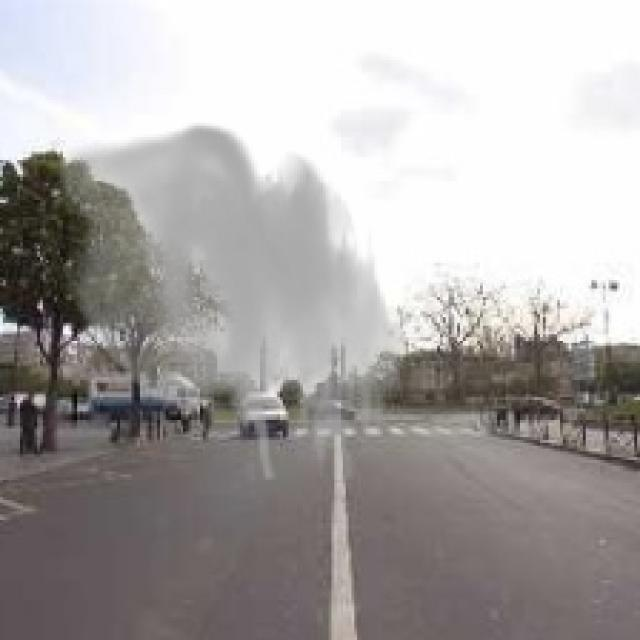Smoke: (57, 123, 412, 483)
